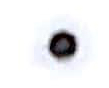cancer: (33, 14, 94, 75)
